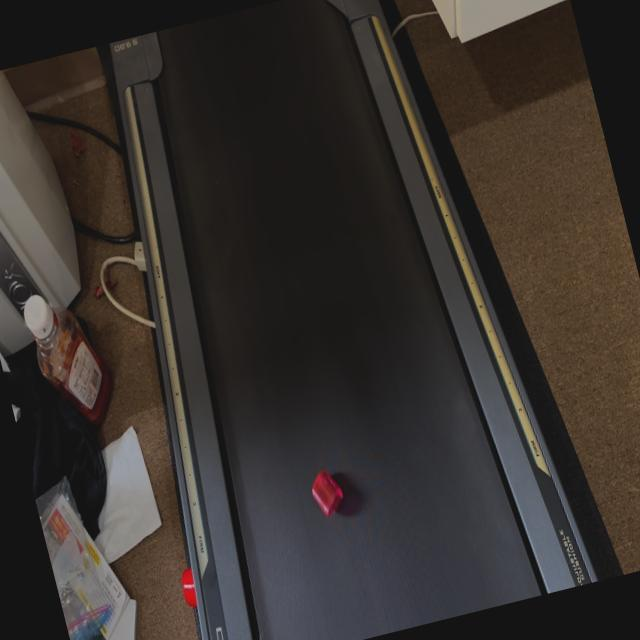Recycle: (308, 468, 348, 520)
